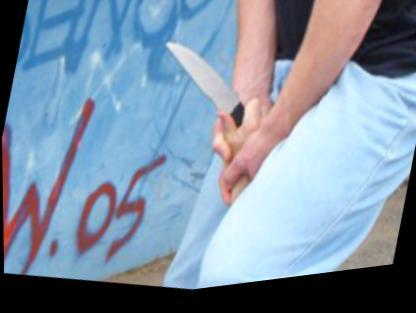knife: (130, 18, 276, 168)
